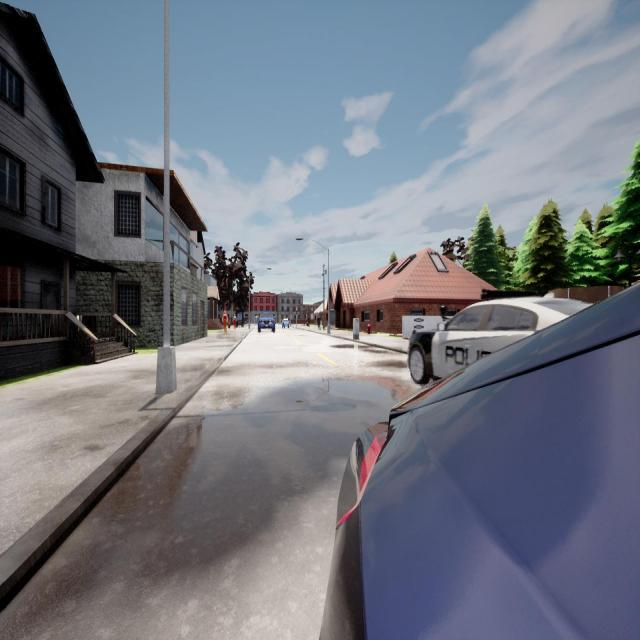Pedestrian: (222, 309, 228, 335), (317, 313, 320, 331), (233, 313, 236, 329)
Vehicle: (320, 283, 640, 638), (411, 297, 597, 382), (257, 311, 275, 332), (282, 318, 290, 327)
traffic_light: (296, 309, 298, 314)
